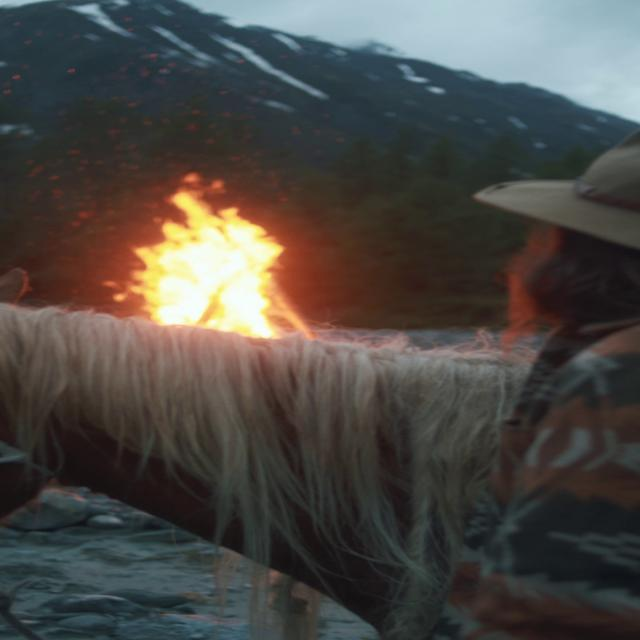Fire: (109, 170, 302, 338)
